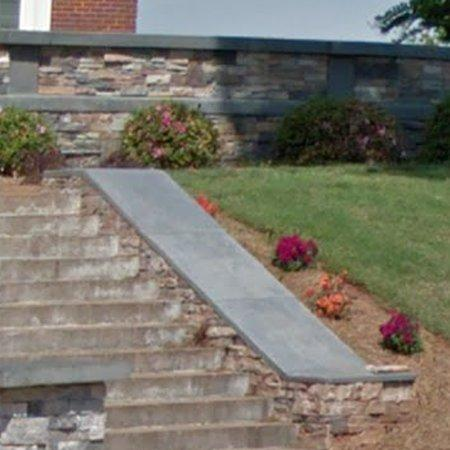stairs: (0, 177, 416, 450)
